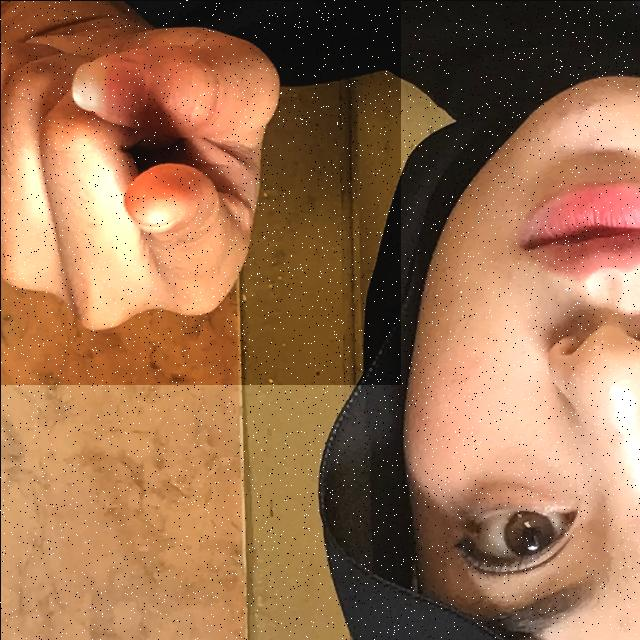kamu: (0, 0, 400, 384)
